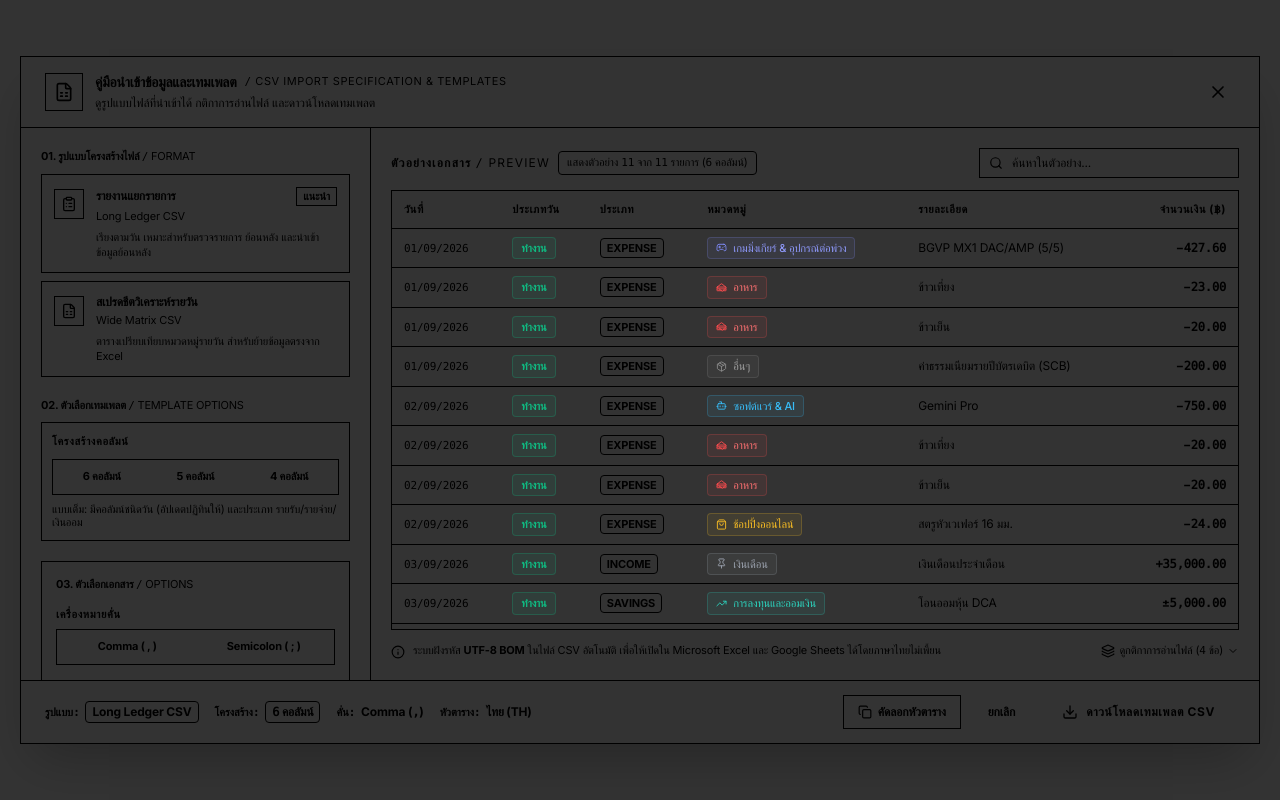
Test: ImportGuideModal — long format › explains each layout under the buttons
Click the button "5 คอลัมน์".
click(196, 477)  # box [151, 464, 240, 490]
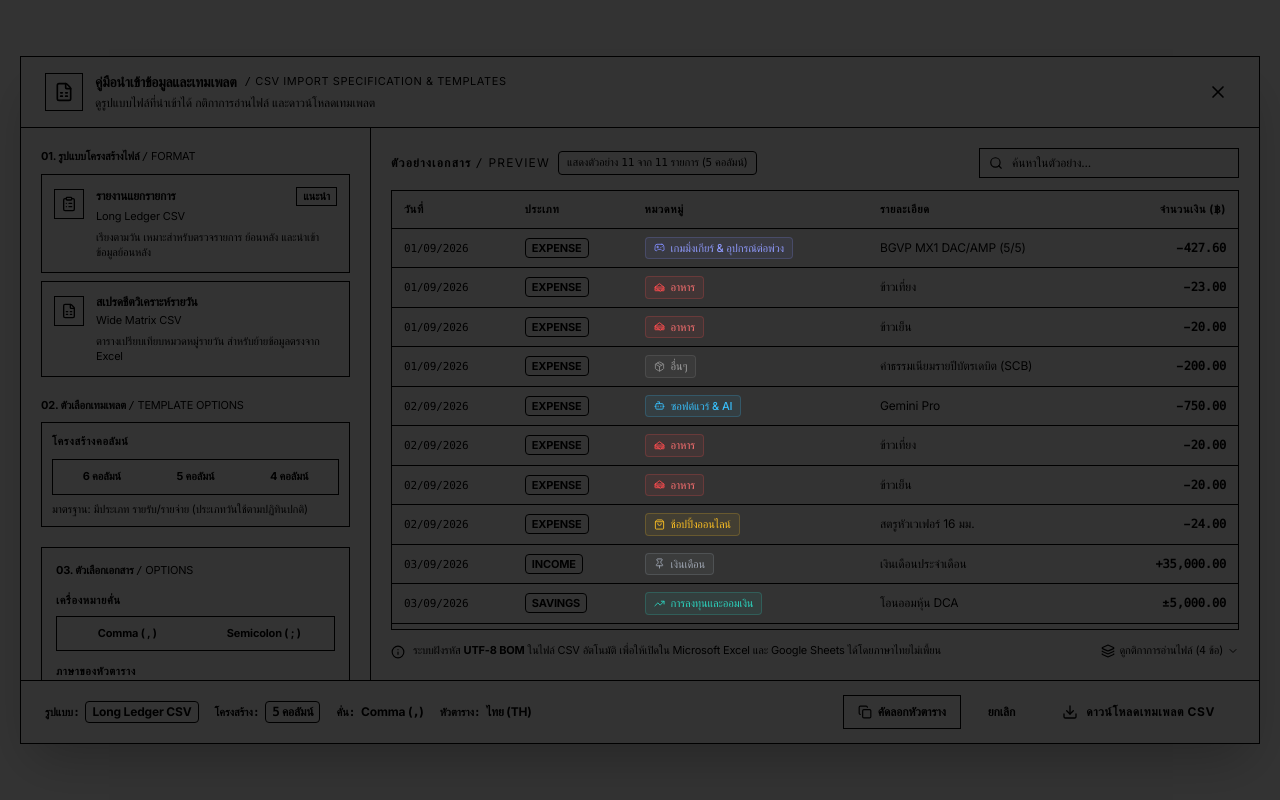
Result: the text "มาตรฐาน: มีประเภท" is shown at [52, 502, 308, 516]
Click the button "4 คอลัมน์".
click(289, 477)  # box [244, 464, 334, 490]
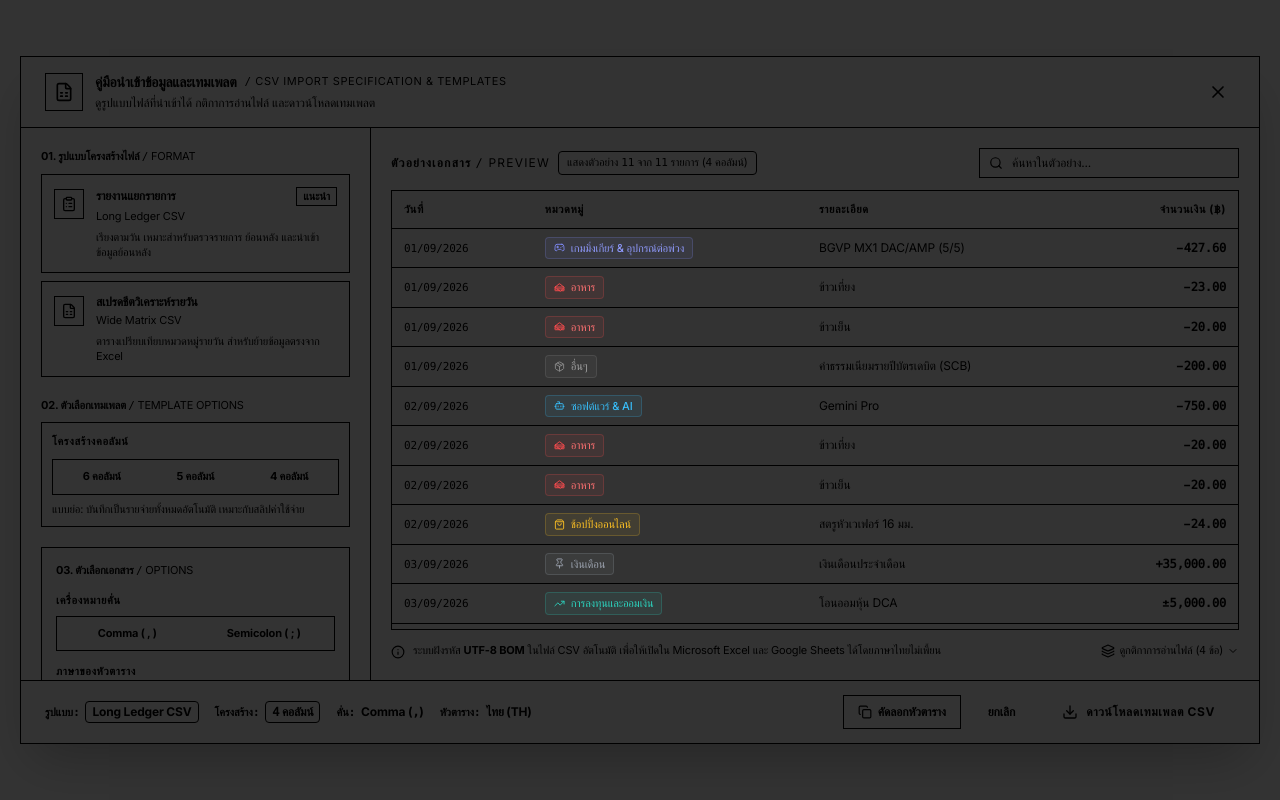
Result: the text "แบบย่อ: บันทึกเป็นรายจ่ายทั้งหมด" is shown at [52, 502, 304, 516]
